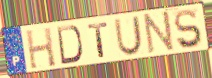D: (56, 24, 84, 66)
H: (24, 26, 57, 71)
N: (143, 9, 176, 55)
S: (172, 9, 204, 51)
T: (86, 21, 110, 60)
U: (113, 15, 144, 57)
